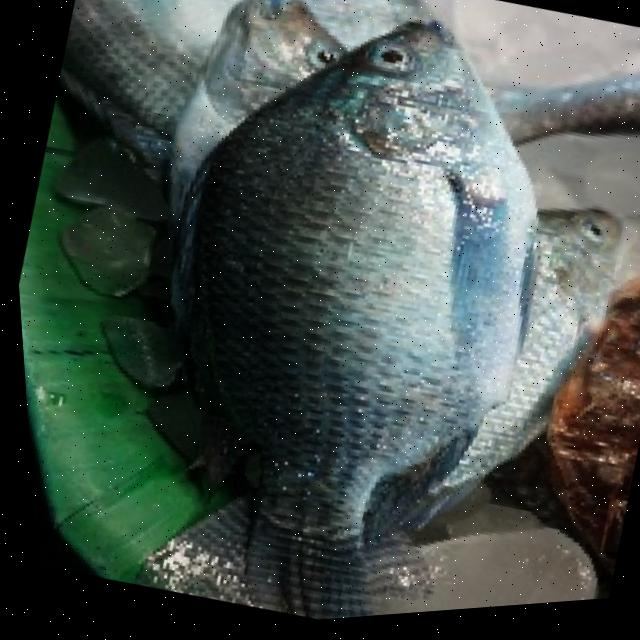Fresh: (105, 0, 640, 634)
